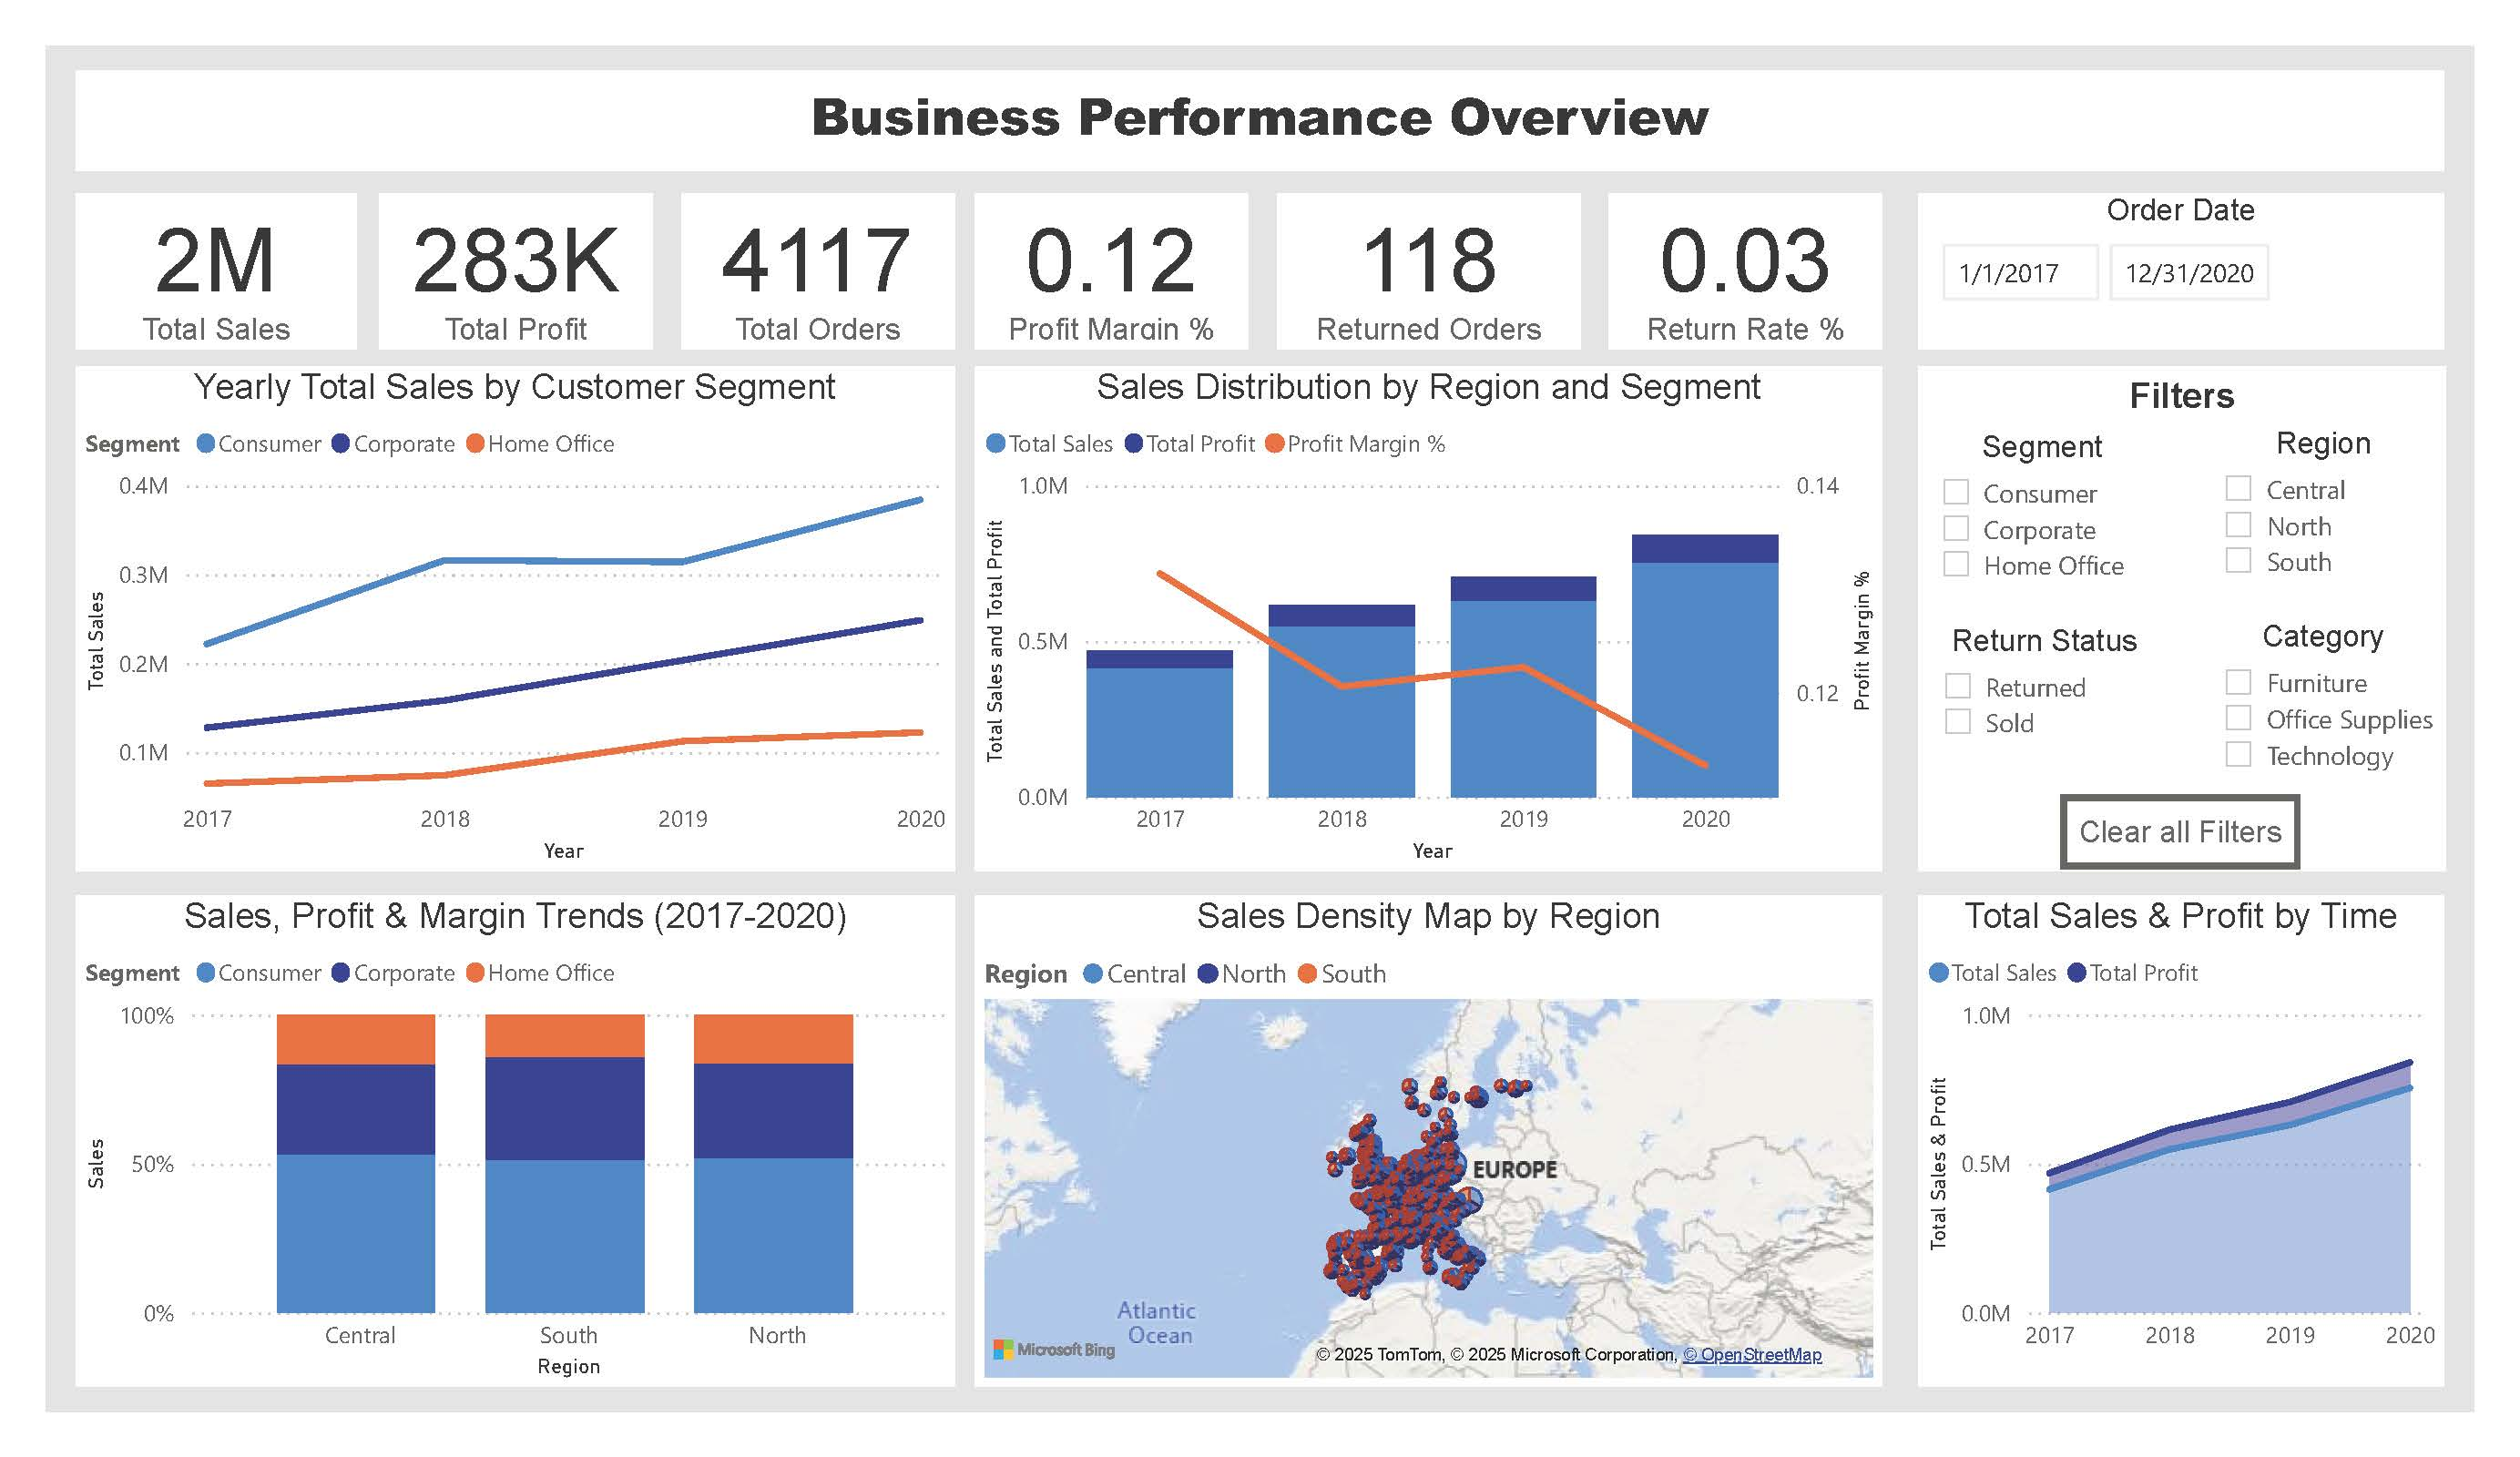

Layout of this report page (visuals, bound fields, positions):
{"tool":"powerbi","page":{"name":"Executive Overview","canvas":[1280,720],"ordinal":0},"visuals":[{"type":"slicer","title":"Segment","fields":{"Values":["List of Orders.Segment"]},"box":[986.8,203.3,130.5,88.9],"z":0,"group":"g1"},{"type":"card","fields":{"Values":["List of Orders.Total Sales"]},"box":[15.5,77.6,148.2,81.9],"z":0},{"type":"slicer","title":"Region","fields":{"Values":["List of Orders.Region"]},"box":[1135.5,201.3,129.1,88.9],"z":1000,"group":"g1"},{"type":"card","fields":{"Values":["List of Orders.Total Profit"]},"box":[176.5,77.6,144,81.9],"z":1000},{"type":"card","fields":{"Values":["List of Orders.Total Orders"]},"box":[334.6,77.6,144,81.9],"z":2000},{"type":"slicer","title":"Return Status","fields":{"Values":["Order Breakdown.Return Status"]},"box":[988.2,304.9,130.5,69.2],"z":2000,"group":"g1"},{"type":"card","fields":{"Values":["List of Orders.Profit Margin %"]},"box":[489.9,77.6,144,81.9],"z":3000},{"type":"slicer","title":"Category","fields":{"Values":["Order Breakdown.Category"]},"box":[1135.8,303.5,129.1,91.8],"z":3000,"group":"g1"},{"type":"card","fields":{"Values":["List of Orders.Returned Orders"]},"box":[649.4,77.6,159.5,81.9],"z":4000},{"type":"actionButton","title":"slicers","box":[1062,395.3,126.3,39.5],"z":4000,"group":"g1"},{"type":"textbox","box":[986.8,169.4,278.1,33.9],"z":5000,"group":"g1"},{"type":"card","fields":{"Values":["List of Orders.Return Rate %"]},"box":[824.5,77.6,144,81.9],"z":5000},{"type":"lineChart","title":"Yearly Total Sales by Customer Segment","fields":{"Category":["List of Orders.Order Date.Variation.Date Hierarchy.Year","List of Orders.Order Date.Variation.Date Hierarchy.Quarter","List of Orders.Order Date.Variation.Date Hierarchy.Month","List of Orders.Order Date.Variation.Date Hierarchy.Day"],"Y":["List of Orders.Total Sales"],"Series":["List of Orders.Segment"]},"box":[15.5,169.4,463.1,265.4],"z":6000},{"type":"lineStackedColumnComboChart","title":"Sales Distribution by Region and Segment","fields":{"Category":["List of Orders.Order Date.Variation.Date Hierarchy.Year","List of Orders.Order Date.Variation.Date Hierarchy.Quarter","List of Orders.Order Date.Variation.Date Hierarchy.Month","List of Orders.Order Date.Variation.Date Hierarchy.Day"],"Y":["List of Orders.Total Sales","List of Orders.Total Profit"],"Y2":["List of Orders.Profit Margin %"]},"box":[489.9,169.4,478.6,265.4],"z":7000},{"type":"hundredPercentStackedColumnChart","title":"Sales, Profit & Margin Trends (2017-2020)","fields":{"Category":["List of Orders.Region"],"Y":["Sum(Order Breakdown.Sales)"],"Series":["List of Orders.Segment"]},"box":[15.5,447.5,463.1,259.8],"z":8000},{"type":"map","title":"Sales Density Map by Region","fields":{"Y":["List of Orders.lat"],"X":["List of Orders.lon"],"Size":["List of Orders.Total Sales"],"Series":["Merge1.Region"]},"box":[489.9,447.5,478.6,259.8],"z":9000},{"type":"slicer","title":"Order Date","fields":{"Values":["List of Orders.Order Date"]},"box":[986.8,77.6,276.7,81.9],"z":10000},{"type":"stackedAreaChart","title":"Total Sales & Profit by Time","fields":{"Category":["List of Orders.Order Date.Variation.Date Hierarchy.Year","List of Orders.Order Date.Variation.Date Hierarchy.Quarter","List of Orders.Order Date.Variation.Date Hierarchy.Month","List of Orders.Order Date.Variation.Date Hierarchy.Day"],"Y":["List of Orders.Total Sales","List of Orders.Total Profit"]},"box":[986.8,447.5,276.7,259.8],"z":11000},{"type":"textbox","box":[15.5,12.7,1248,53.6],"z":12000},{"type":"group","id":"g1","title":"Group 1","box":[986.8,169.4,278.1,265.4],"z":13000}]}

Visuals, with their boxes in screenshot pixels (x1, y1, x2, y2):
"Segment" slicer: detection(1918, 432, 2166, 600)
card - List of Orders.Total Sales: detection(75, 193, 356, 348)
"Region" slicer: detection(2200, 427, 2445, 596)
card - List of Orders.Total Profit: detection(381, 193, 654, 348)
card - List of Orders.Total Orders: detection(680, 193, 954, 348)
"Return Status" slicer: detection(1921, 624, 2168, 755)
card - List of Orders.Profit Margin %: detection(975, 193, 1249, 348)
"Category" slicer: detection(2201, 621, 2446, 796)
card - List of Orders.Returned Orders: detection(1278, 193, 1580, 348)
"slicers" actionButton: detection(2061, 796, 2301, 871)
textbox: detection(1918, 367, 2446, 432)
card - List of Orders.Return Rate %: detection(1610, 193, 1883, 348)
"Yearly Total Sales by Customer Segment" lineChart: detection(75, 367, 954, 871)
"Sales Distribution by Region and Segment" lineStackedColumnComboChart: detection(975, 367, 1883, 871)
"Sales, Profit & Margin Trends (2017-2020)" hundredPercentStackedColumnChart: detection(75, 894, 954, 1388)
"Sales Density Map by Region" map: detection(975, 894, 1883, 1388)
"Order Date" slicer: detection(1918, 193, 2443, 348)
"Total Sales & Profit by Time" stackedAreaChart: detection(1918, 894, 2443, 1388)
textbox: detection(75, 69, 2443, 171)
"Group 1" group: detection(1918, 367, 2446, 871)
